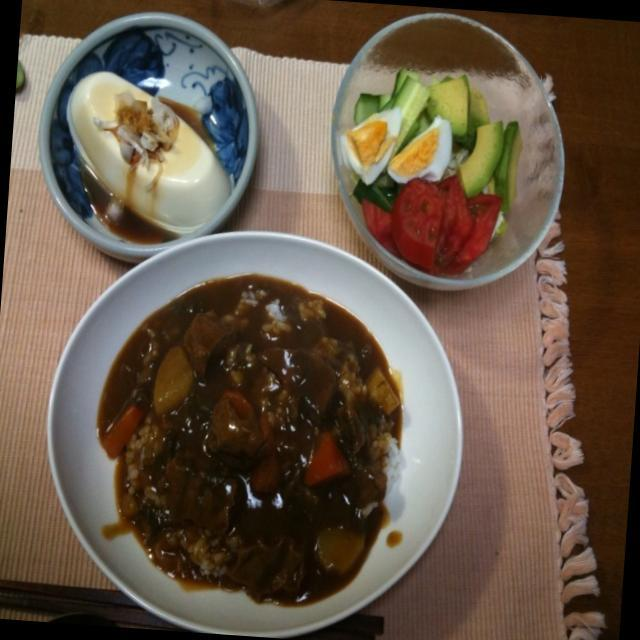Beef Curry: (20, 211, 478, 640)
